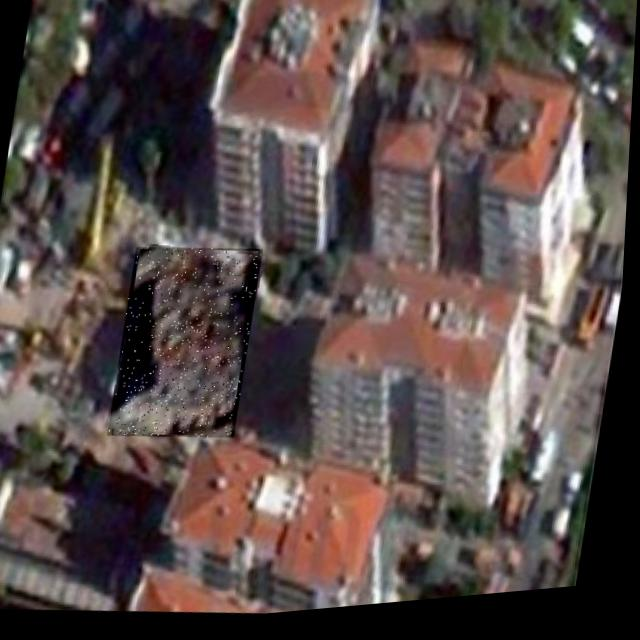Rubble: (111, 241, 266, 451)
